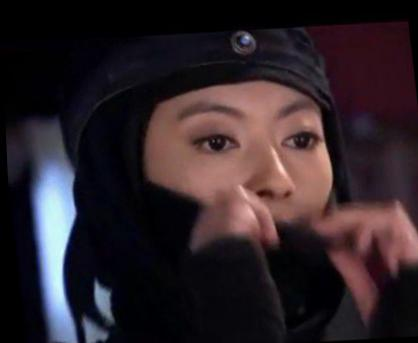WRONG: (118, 84, 345, 287)
